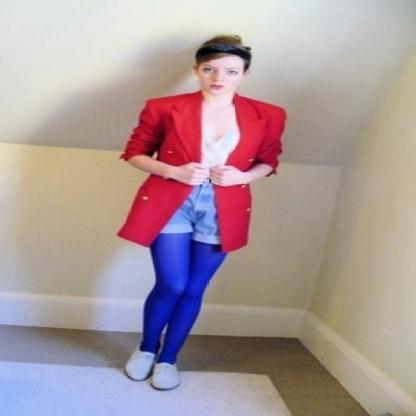jacket: (117, 89, 285, 252)
shirt: (188, 117, 239, 202)
shoe: (120, 349, 176, 387)
